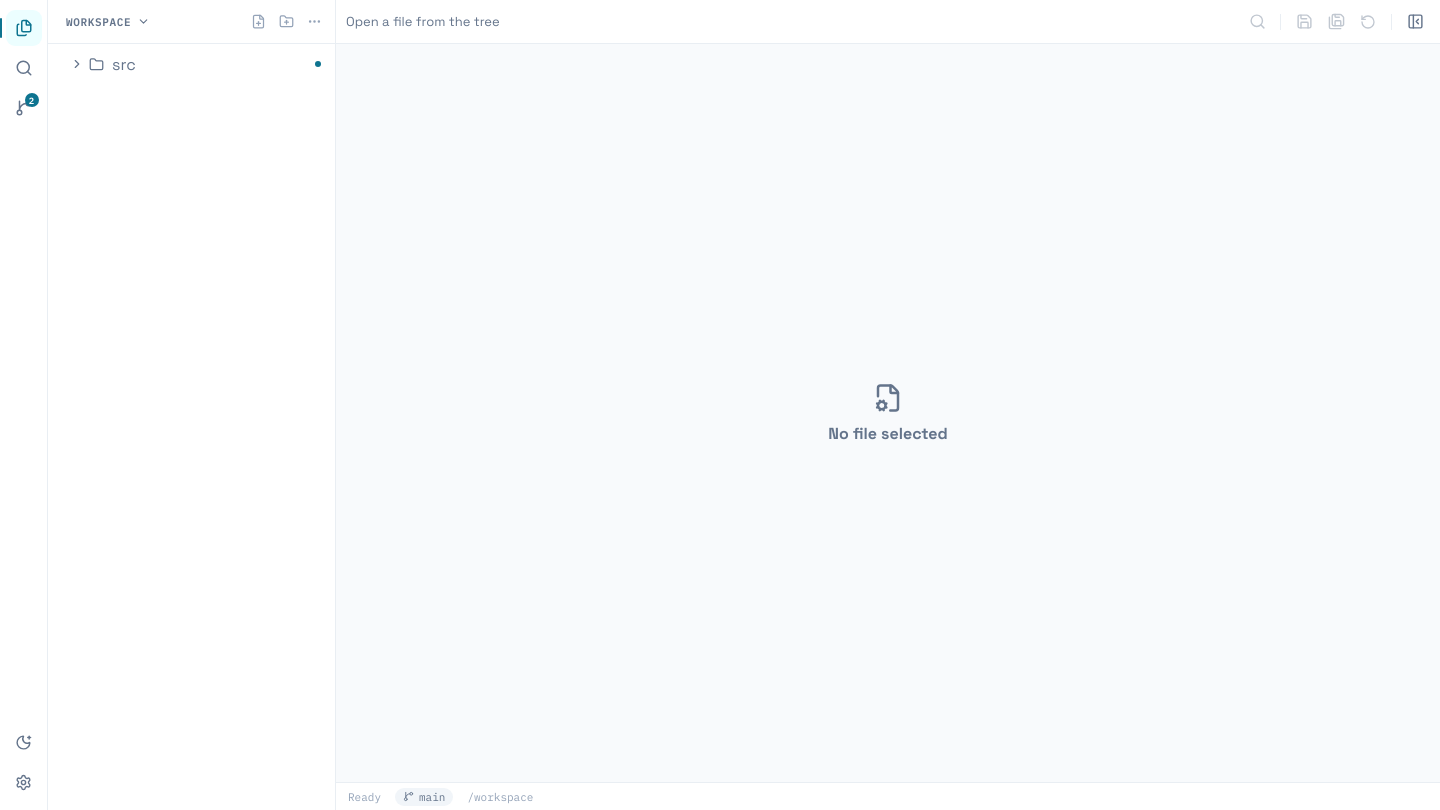
Test: App shell interactions › does not duplicate an in-flight folder child load when re-expanding a folder
Click the list item "src": [77, 64] box [64, 50, 327, 78]
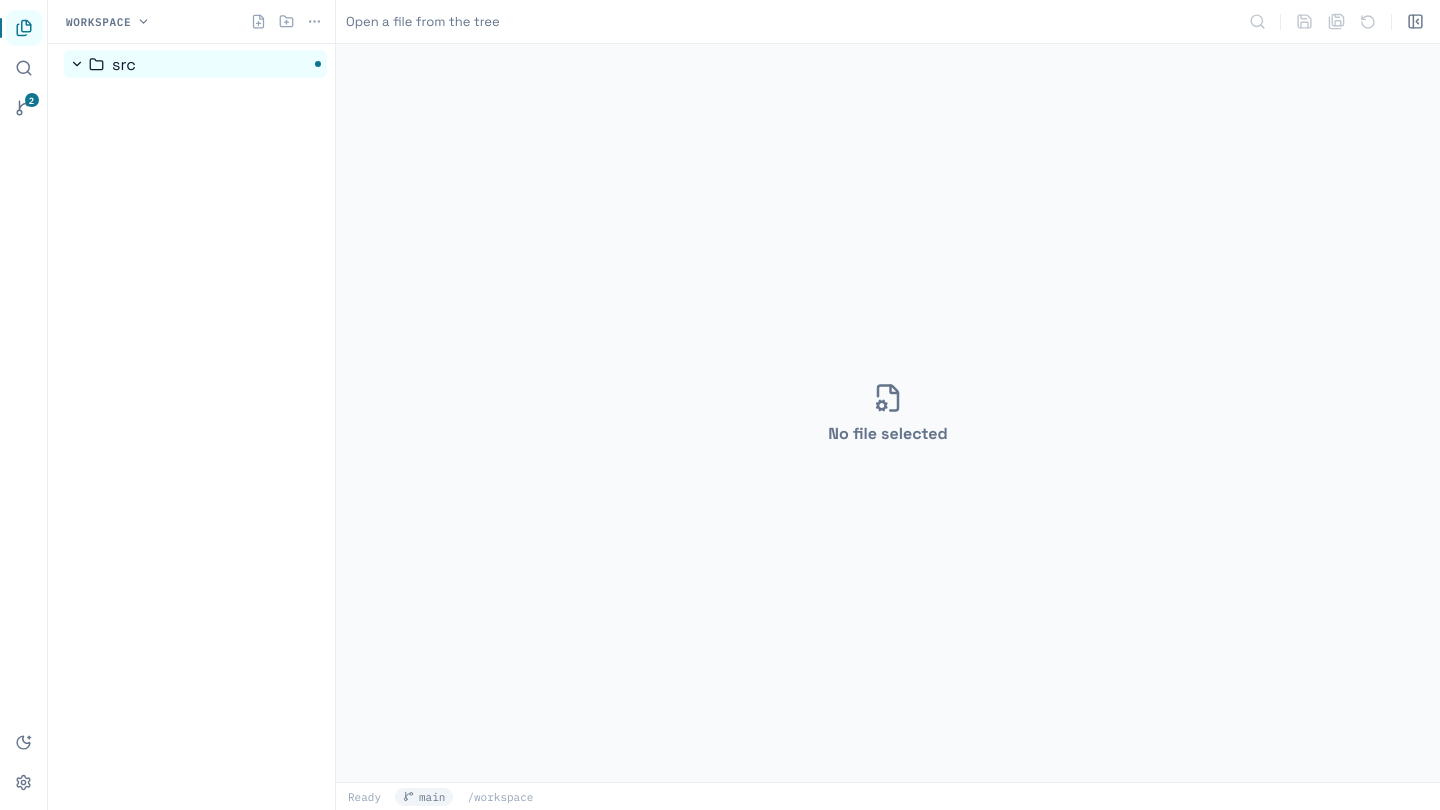
expect the list item "src" is expanded: met
Click the list item "src": [77, 64] box [64, 50, 327, 78]
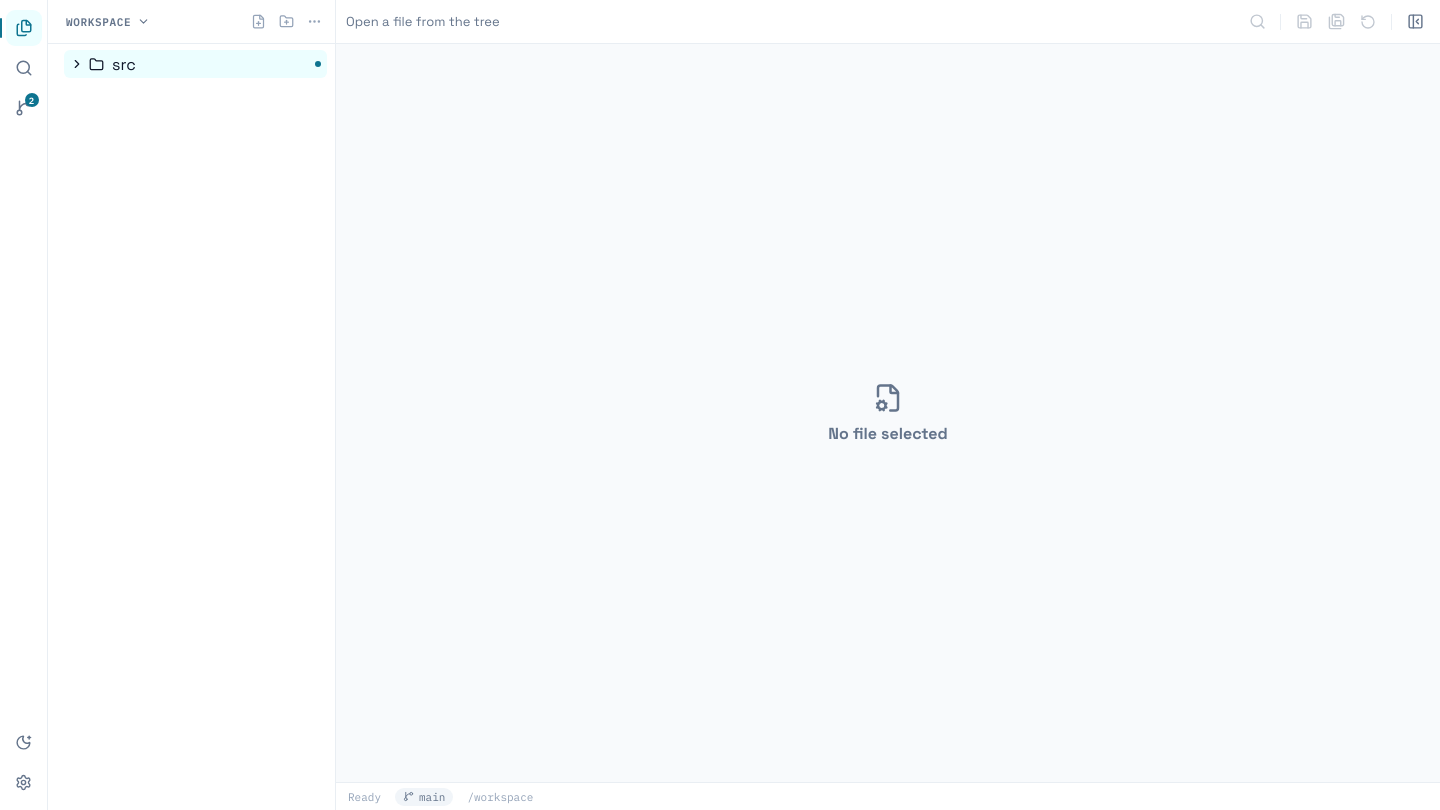
expect the list item "src" is collapsed: met
Click the list item "src": [77, 64] box [64, 50, 327, 78]
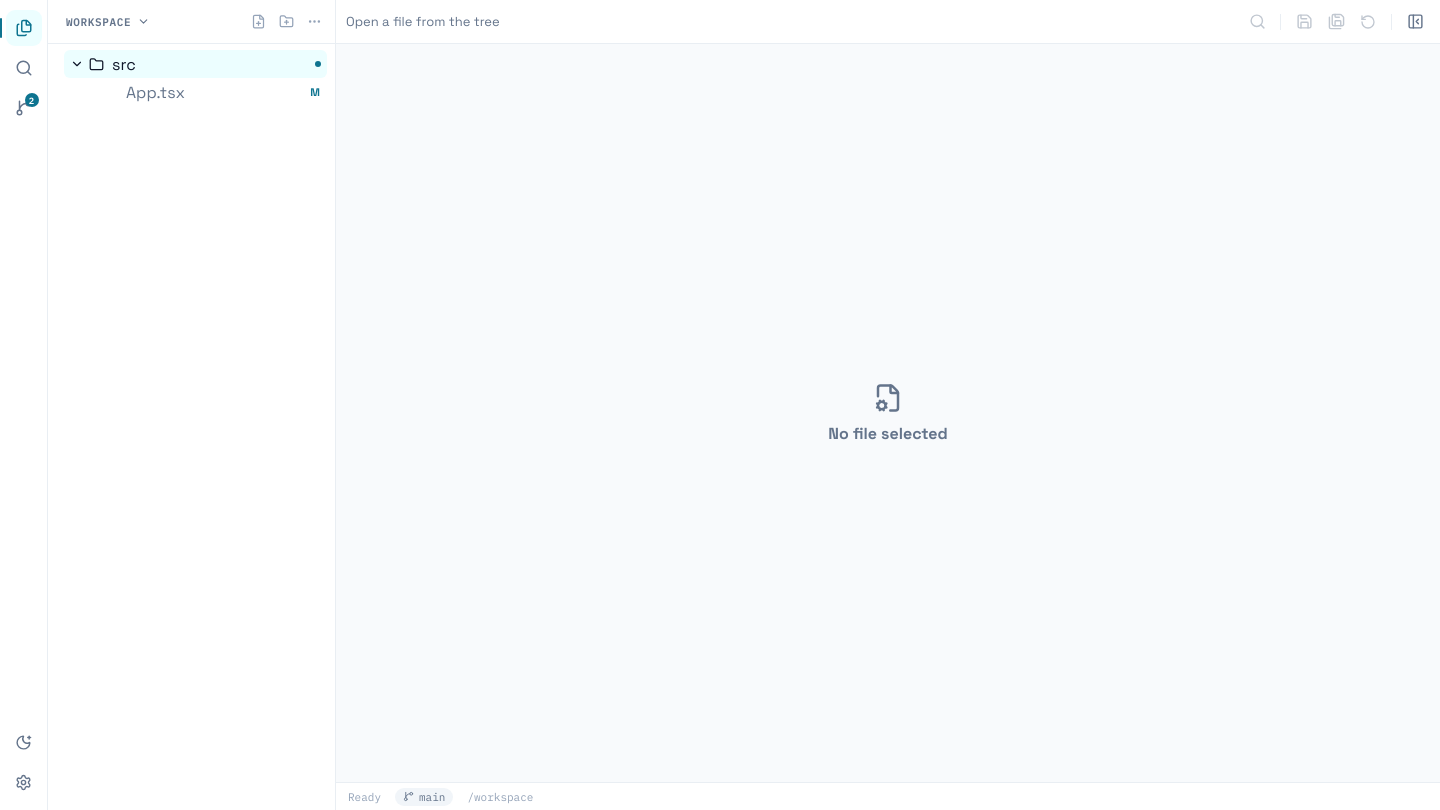
expect the list item "src" is expanded: met, box [64, 50, 327, 78]
expect the list item "App.tsx" is shown: met, box [78, 78, 327, 106]
